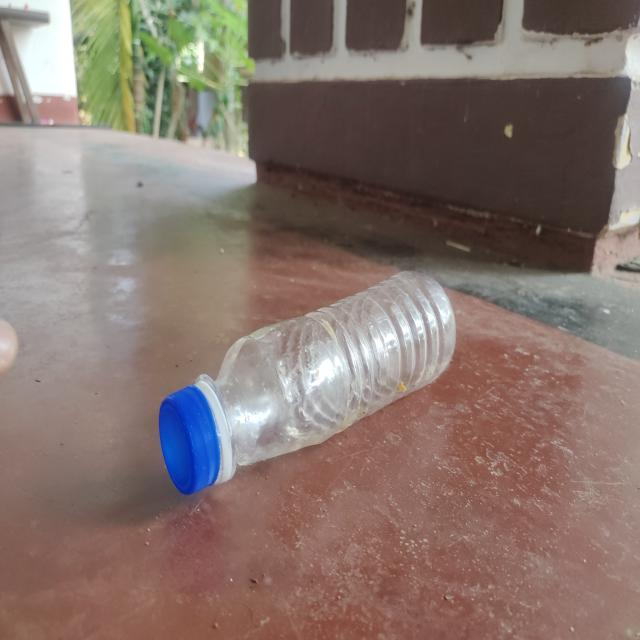plastic: (156, 267, 461, 497)
